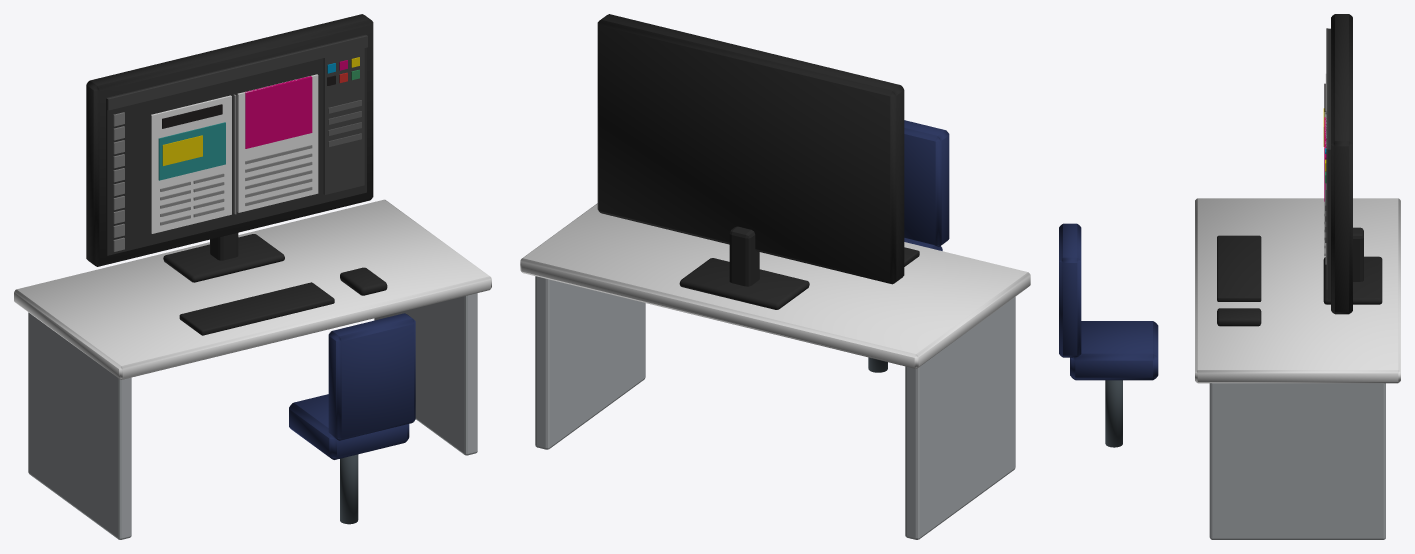
Rendered from m_layoutstation.glb.
3 renders of one model, left to right at view 1: azimuth 30°, elevation 25°; view 2: azimuth 150°, elevation 25°; view 3: azimuth 270°, elevation 25°, orthographic. The views are drawn at different scales.
Parts seen in each view (by area): view 1: m_layoutstation; view 2: m_layoutstation; view 3: m_layoutstation.
Boxes of the visible parts, x1=… form: m_layoutstation: x1=14, y1=14, x2=491, y2=539; m_layoutstation: x1=520, y1=14, x2=1030, y2=539; m_layoutstation: x1=1059, y1=14, x2=1400, y2=539.
Bounding box in the file's own units: 0.56 × 0.57 × 0.465.
